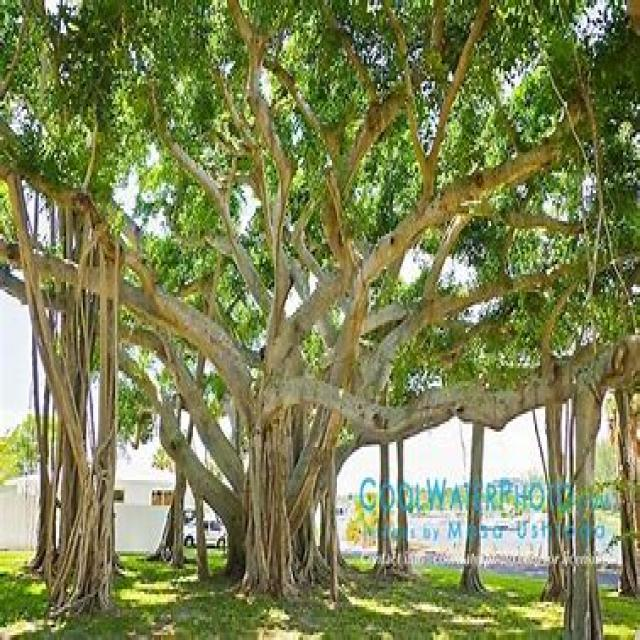Banyan-Tree: (0, 0, 640, 640), (162, 247, 373, 604), (0, 163, 143, 640)
